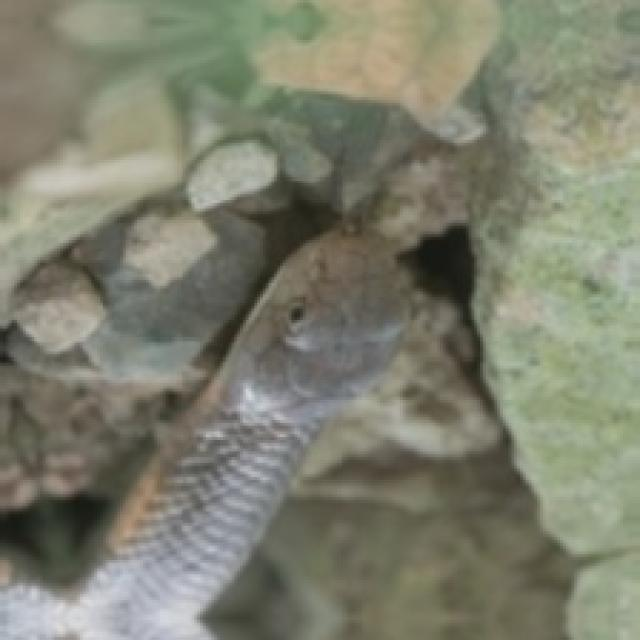king cobra: (0, 143, 463, 637)
